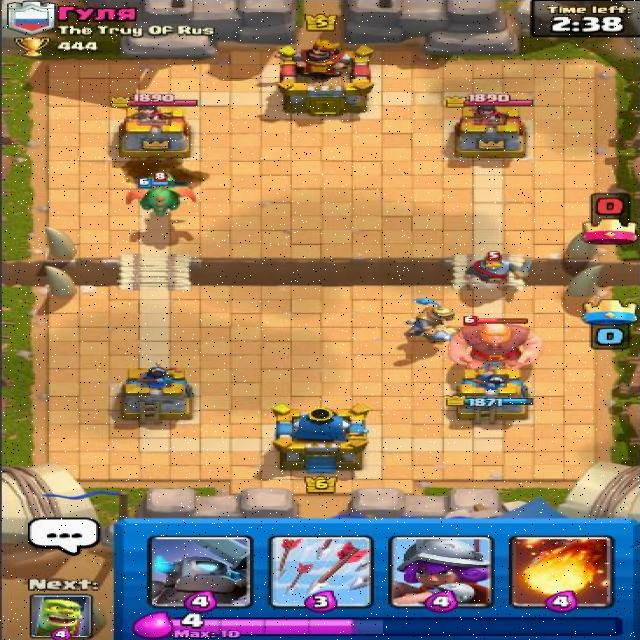Enemy-Giant: (444, 314, 544, 372)
Enemy-Knight: (462, 250, 533, 287)
Enemy-MiniPEKKA: (140, 172, 187, 207)
Player-HungryDragon: (124, 177, 201, 219)
Player-Prince: (401, 296, 462, 346)
